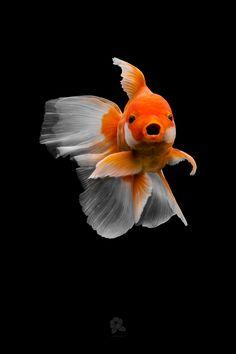goldfish: (27, 54, 216, 249)
